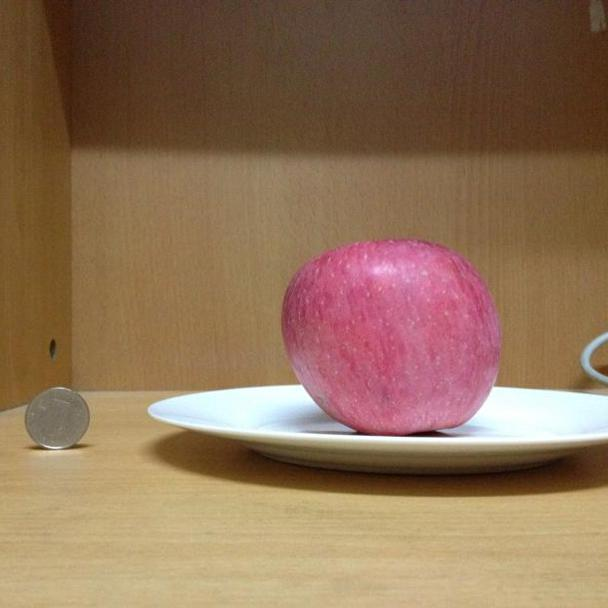apple: (281, 238, 503, 435)
